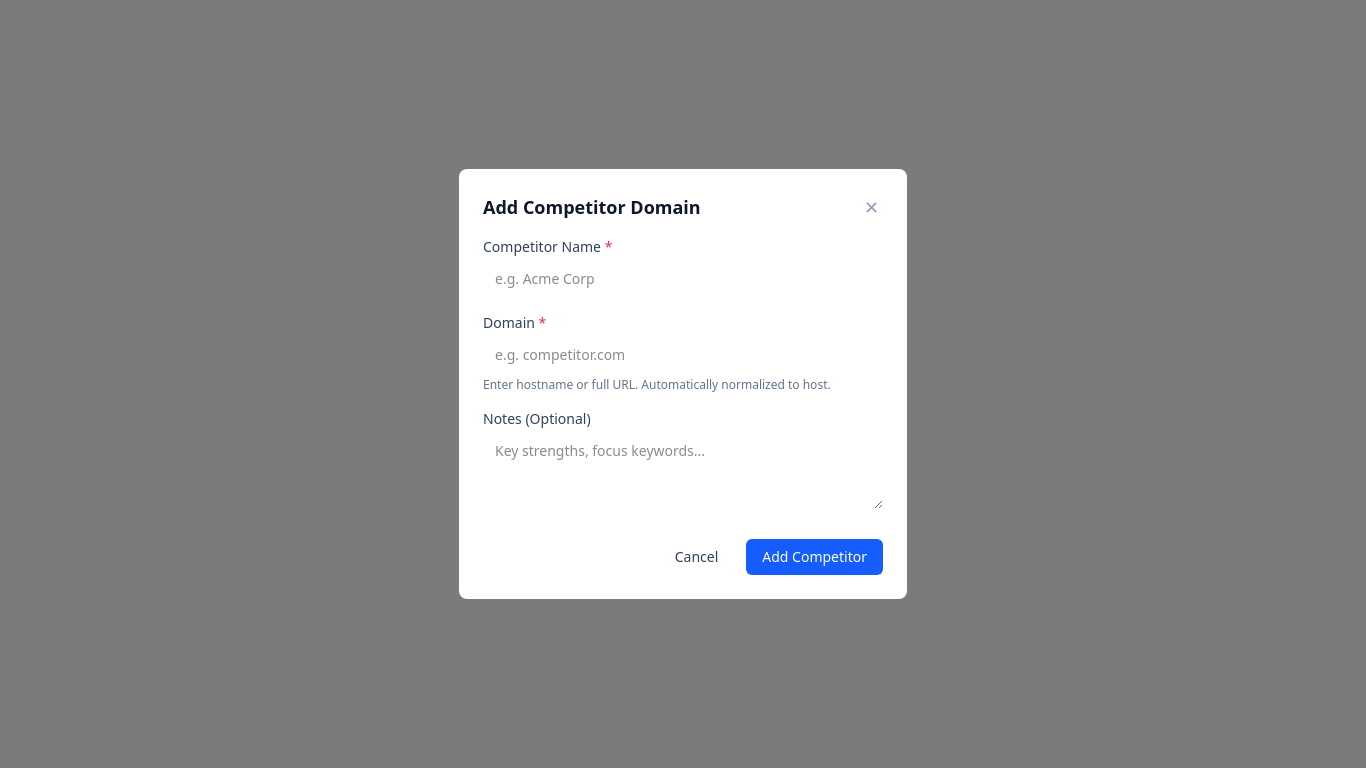
AddCompetitorModal Component › displays error message when API returns failure
In the field with placeholder "e.g. Acme Corp": (683, 279) [483,261,883,297], type "Acme Corp"
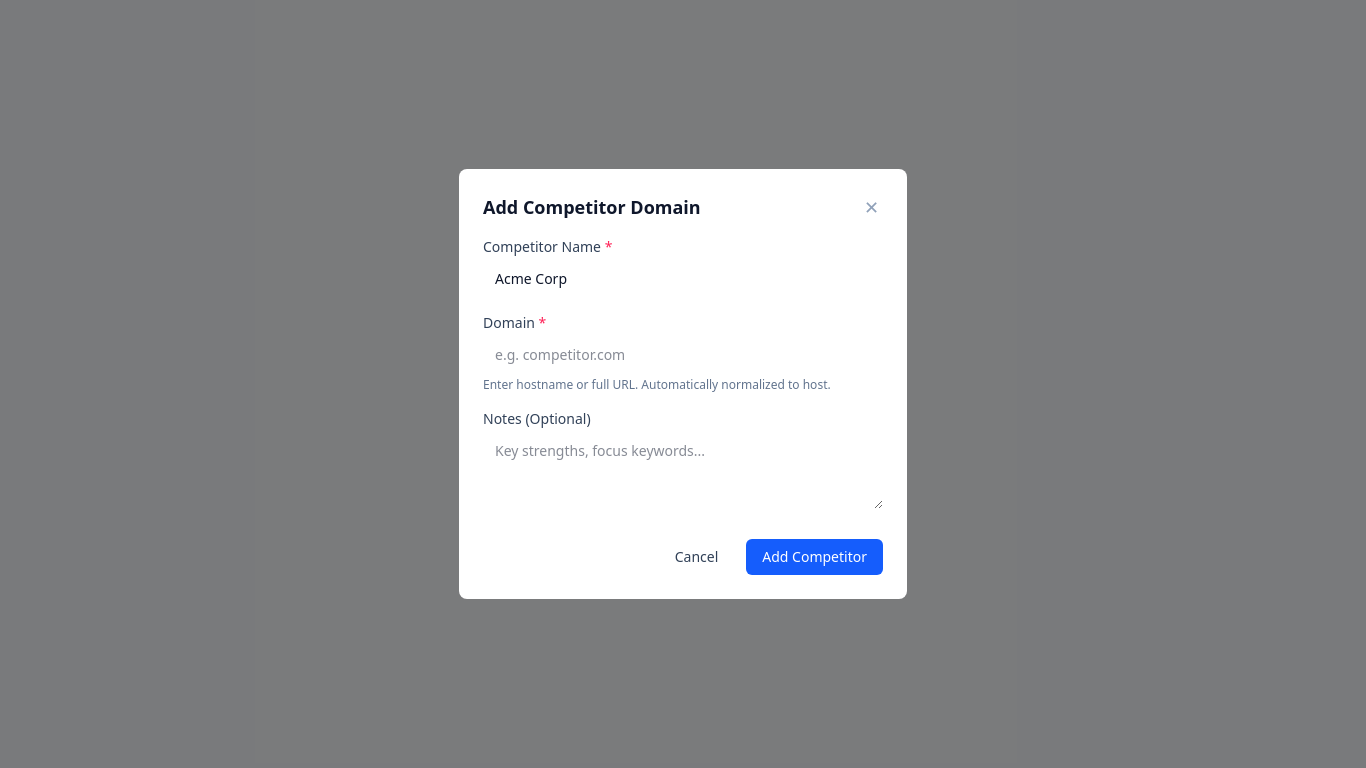
In the field with placeholder "e.g. competitor.com": (683, 355) [483,337,883,373], type "acme.com"
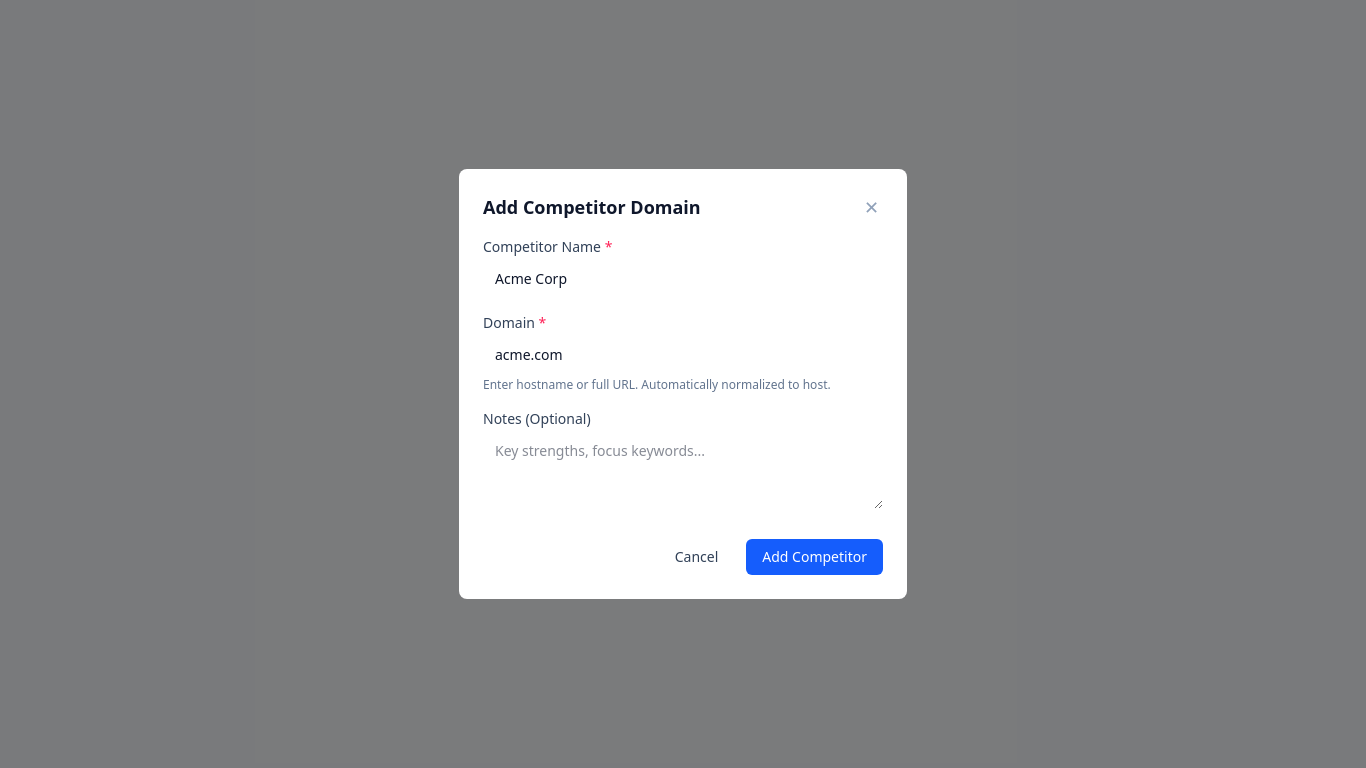
Click the button "Add Competitor": (815, 557) [746,539,883,575]
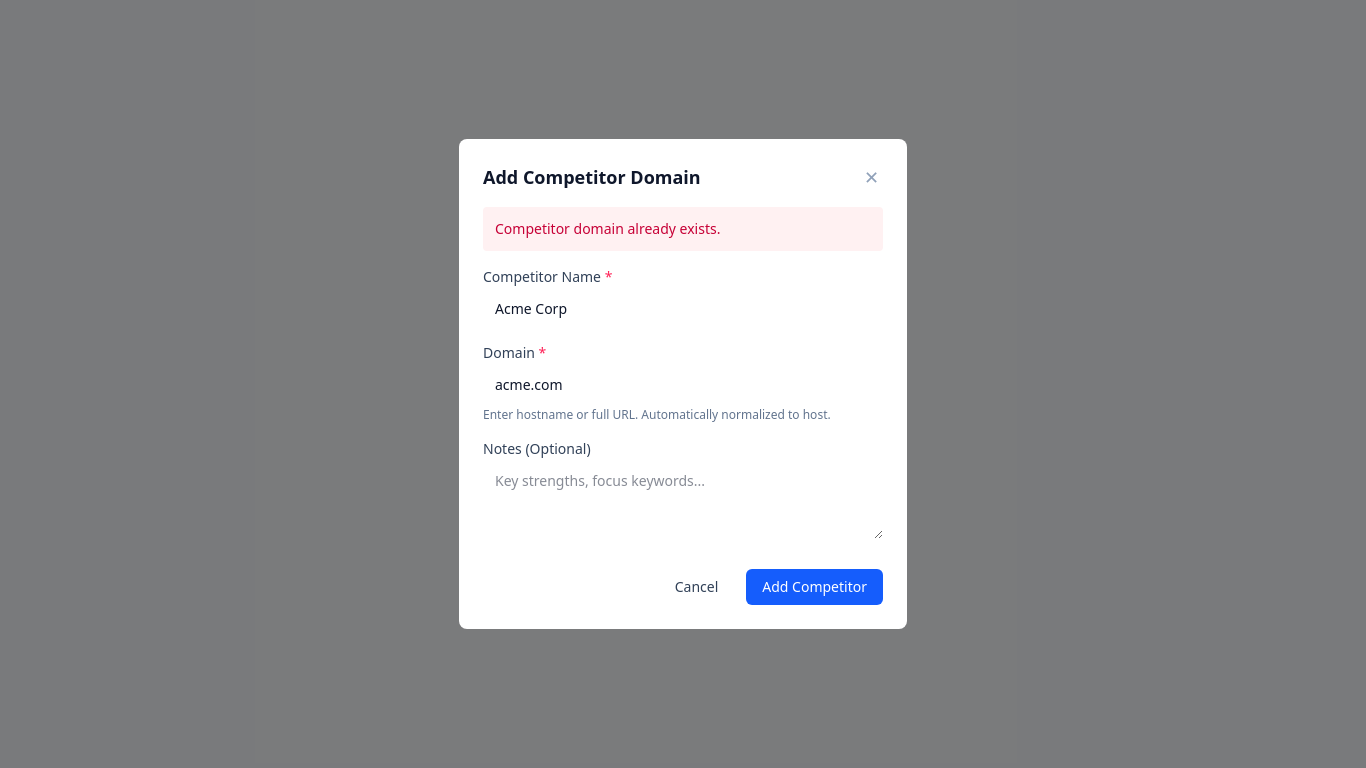
Expected: the text "Competitor domain already exists." is shown, [483,207,883,251]
